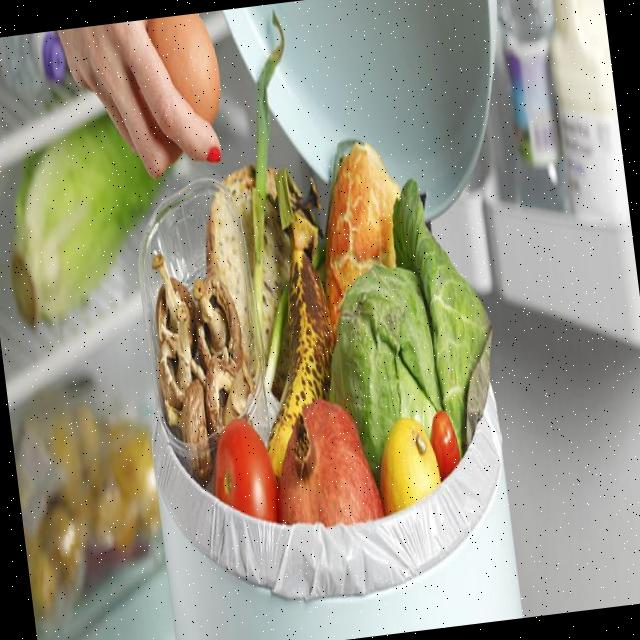banana-peel: (236, 210, 352, 480), (306, 134, 418, 335)
